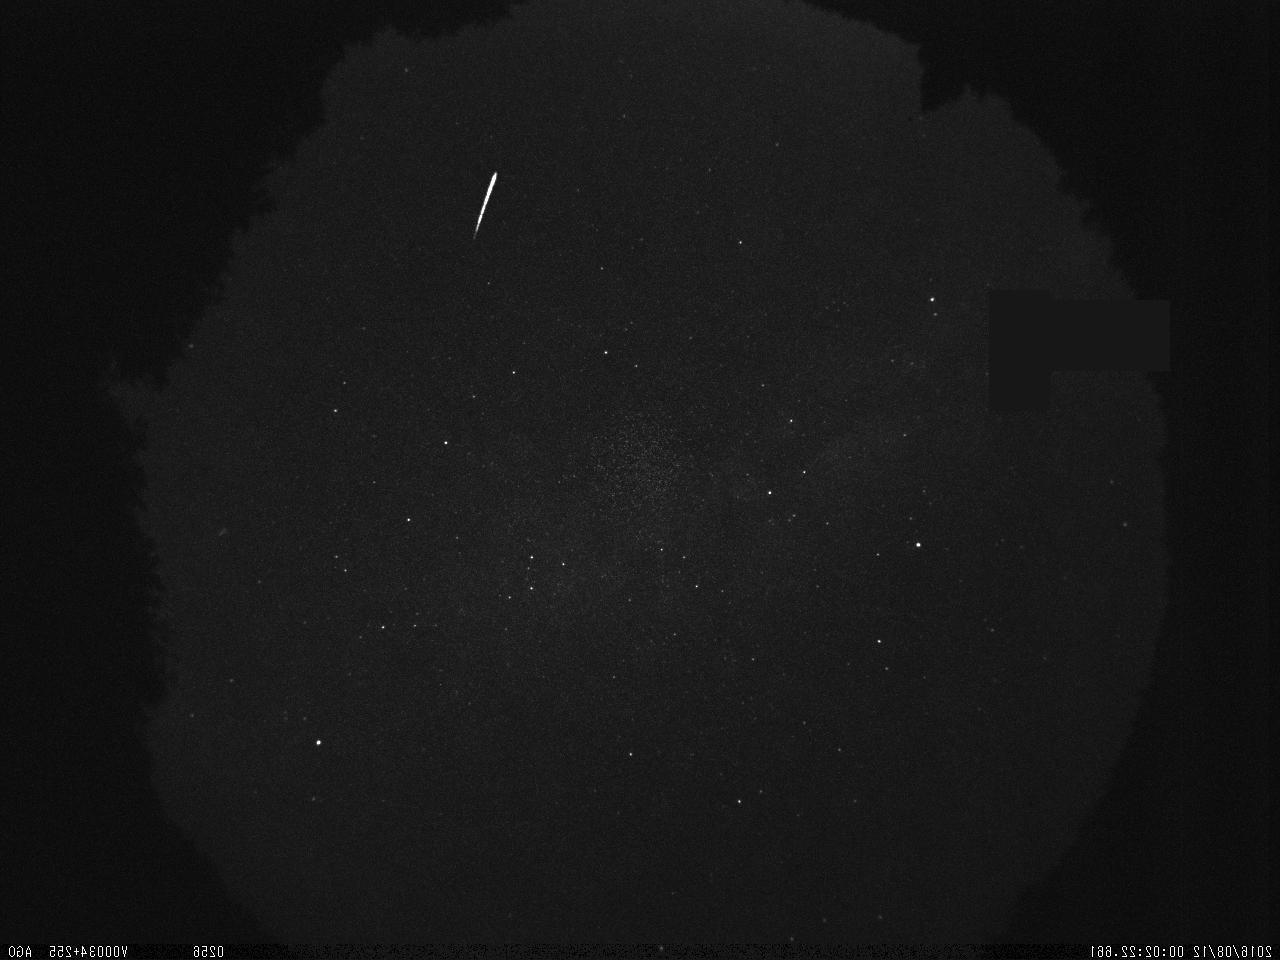meteor: (447, 157, 518, 251)
